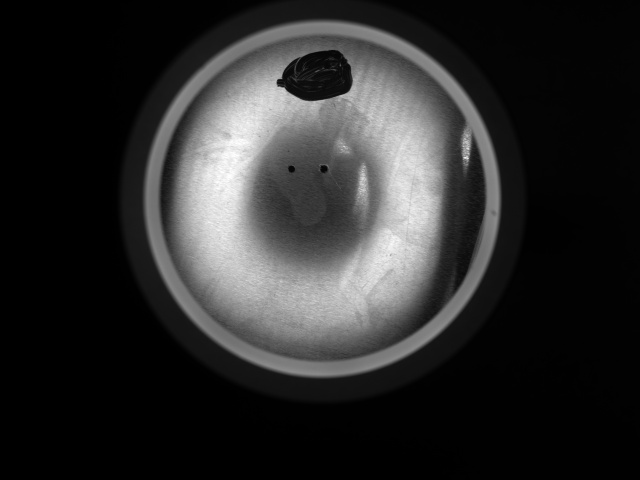zang_wu: (275, 49, 354, 102)
zhen_kong: (318, 163, 331, 176), (285, 162, 297, 175)
